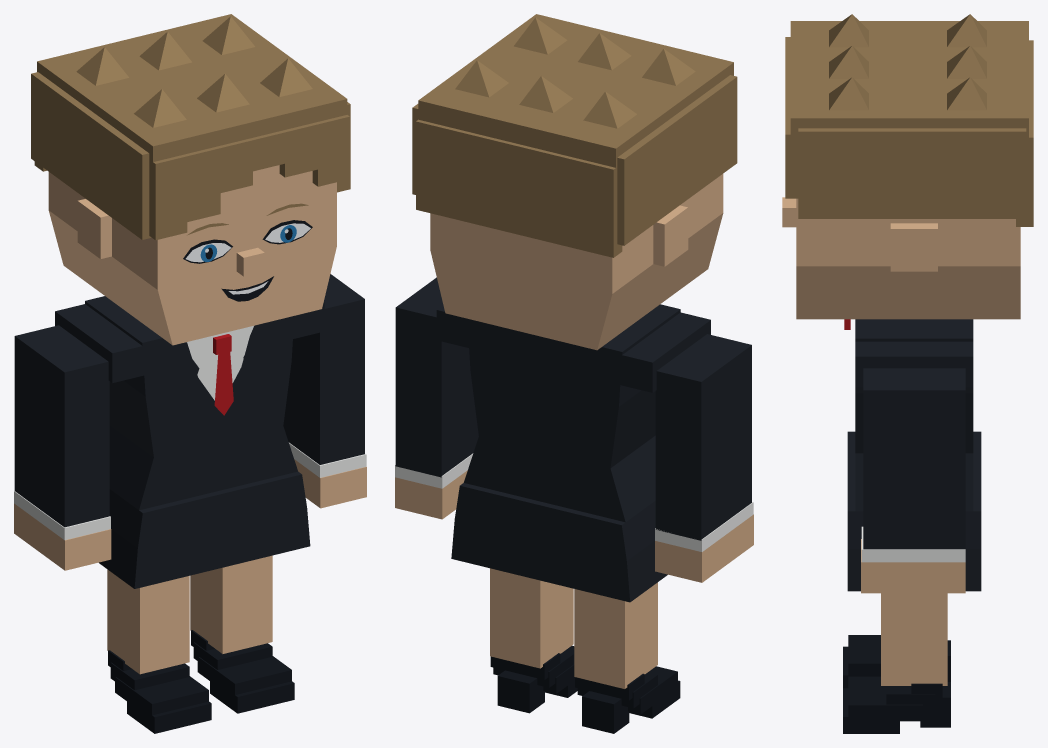
The model's file is female_spiky.glb.
3 views of the same model, side by side, from view 1: azimuth 30°, elevation 25°; view 2: azimuth 150°, elevation 25°; view 3: azimuth 270°, elevation 25° (orthographic). The views are drawn at different scales.
Parts seen in each view (by area): view 1: char_hair_visual, char_torso_visual, char_head_visual, char_arm_negx_visual, char_arm_posx_visual, char_leg_negx_visual, char_leg_posx_visual, char_hand_negx_visual, char_hand_posx_visual, char_eye_negx_visual, char_eye_posx_visual; view 2: char_hair_visual, char_torso_visual, char_head_visual, char_arm_negx_visual, char_arm_posx_visual, char_leg_negx_visual, char_leg_posx_visual, char_hand_negx_visual, char_hand_posx_visual; view 3: char_hair_visual, char_head_visual, char_arm_posx_visual, char_torso_visual, char_leg_posx_visual, char_hand_posx_visual, char_leg_negx_visual.
Part boxes in pixels (left/top/right/bottom): char_hair_visual: left=31, top=14, right=350, bottom=240; char_torso_visual: left=55, top=296, right=324, bottom=588; char_head_visual: left=48, top=165, right=336, bottom=345; char_arm_negx_visual: left=14, top=325, right=110, bottom=540; char_arm_posx_visual: left=283, top=274, right=366, bottom=477; char_leg_negx_visual: left=107, top=569, right=211, bottom=733; char_leg_posx_visual: left=190, top=555, right=294, bottom=713; char_hand_negx_visual: left=14, top=503, right=111, bottom=570; char_hand_posx_visual: left=294, top=459, right=366, bottom=508; char_eye_negx_visual: left=183, top=239, right=232, bottom=263; char_eye_posx_visual: left=262, top=220, right=312, bottom=244; char_hair_visual: left=412, top=14, right=737, bottom=257; char_torso_visual: left=436, top=304, right=710, bottom=602; char_head_visual: left=430, top=174, right=723, bottom=350; char_arm_negx_visual: left=655, top=334, right=753, bottom=551; char_arm_posx_visual: left=395, top=277, right=478, bottom=488; char_leg_negx_visual: left=574, top=582, right=680, bottom=733; char_leg_posx_visual: left=490, top=568, right=577, bottom=713; char_hand_negx_visual: left=655, top=514, right=753, bottom=582; char_hand_posx_visual: left=395, top=470, right=467, bottom=519; char_hair_visual: left=785, top=14, right=1033, bottom=226; char_head_visual: left=782, top=197, right=1020, bottom=319; char_arm_posx_visual: left=861, top=368, right=965, bottom=562; char_torso_visual: left=844, top=319, right=981, bottom=591; char_leg_posx_visual: left=843, top=593, right=950, bottom=733; char_hand_posx_visual: left=861, top=539, right=965, bottom=593; char_leg_negx_visual: left=843, top=635, right=950, bottom=688.
Bounding box in the file's own units: 0.91 × 1.84 × 0.6395.
